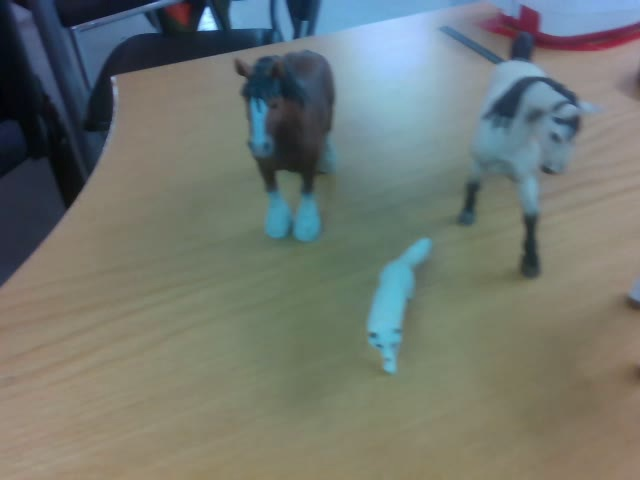toy: (455, 34, 591, 278), (229, 49, 336, 237), (366, 238, 431, 375)
